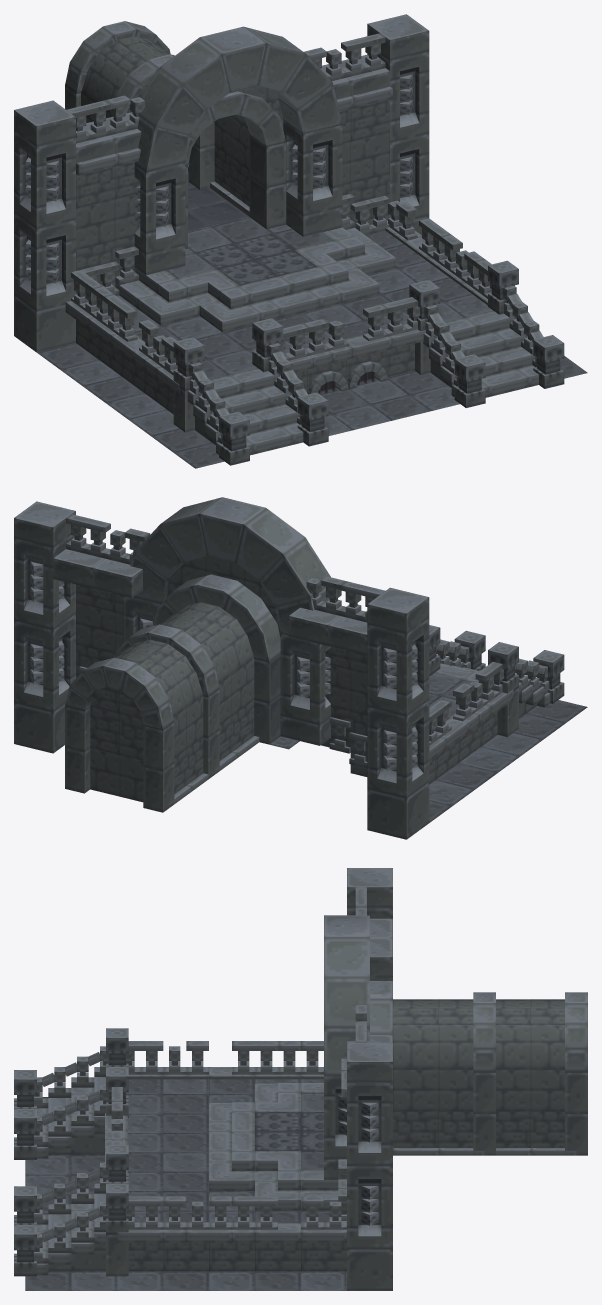
File: exit_3_blue.fbx
3 renders of one model, top to bottom at view 1: azimuth 30°, elevation 25°; view 2: azimuth 150°, elevation 25°; view 3: azimuth 270°, elevation 25°, orthographic.
Parts seen in each view (by area): view 1: exit_3_blue; view 2: exit_3_blue; view 3: exit_3_blue.
Boxes of the visible parts, x1,y1,x2,y2 form: exit_3_blue: (14,14,587,468); exit_3_blue: (14,497,587,839); exit_3_blue: (14,868,587,1290).
Size of the model in its own units: 160 by 103 by 200.
